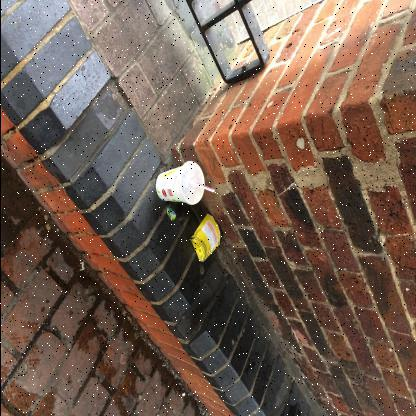cardboard: (154, 161, 204, 205), (188, 212, 220, 262)
plastic: (192, 181, 214, 193)
